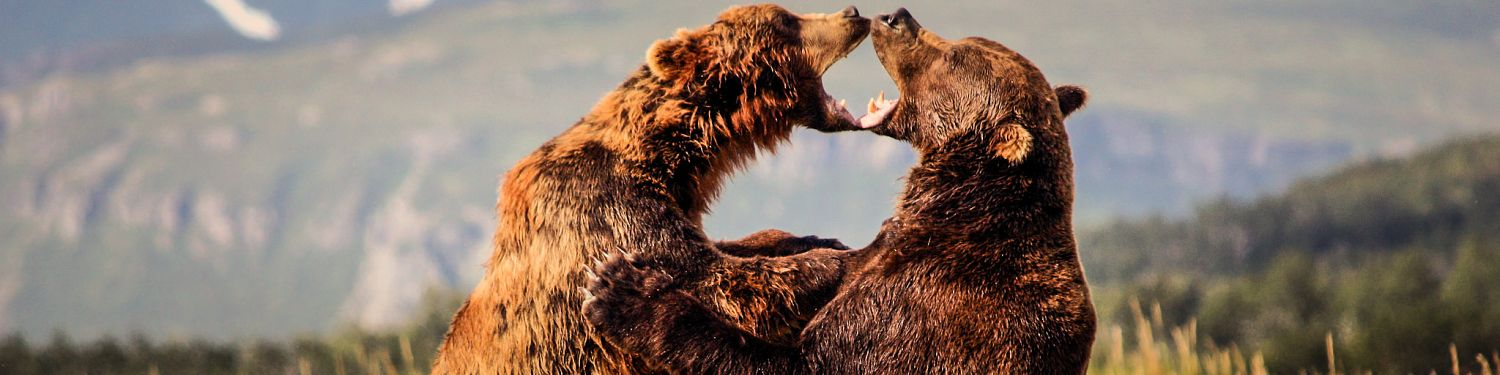bear: (867, 2, 1101, 168), (640, 3, 864, 144)
